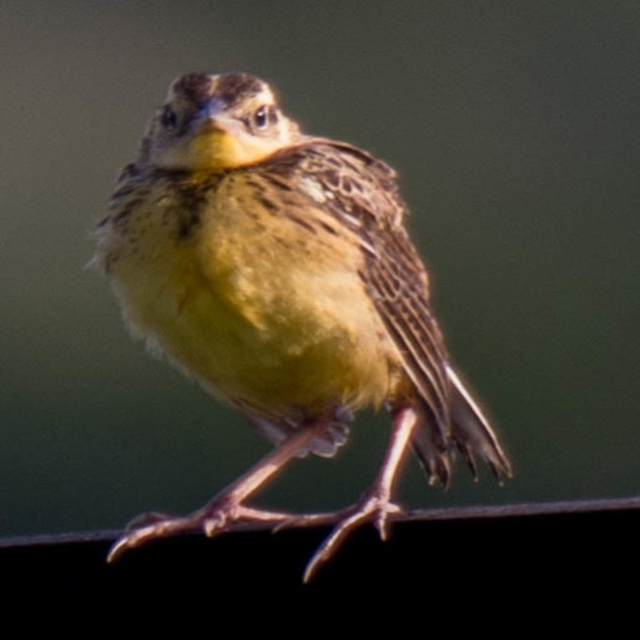Sparrow: (76, 68, 518, 584)
